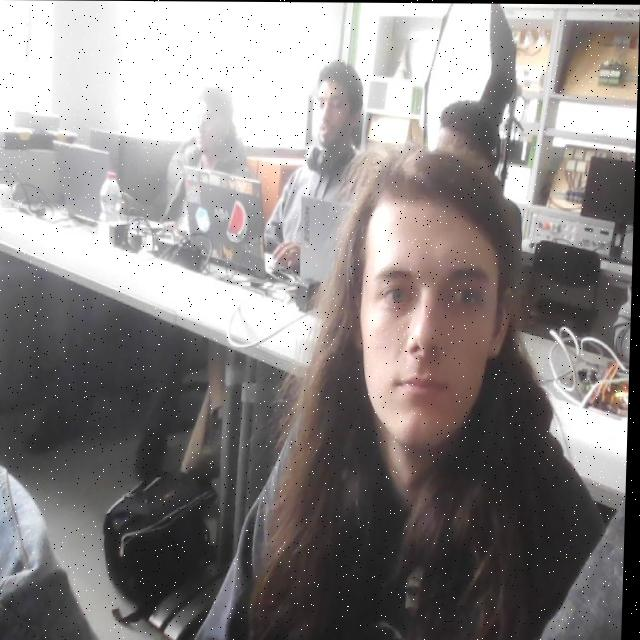opened_eye: (448, 283, 485, 310), (379, 284, 418, 308)
